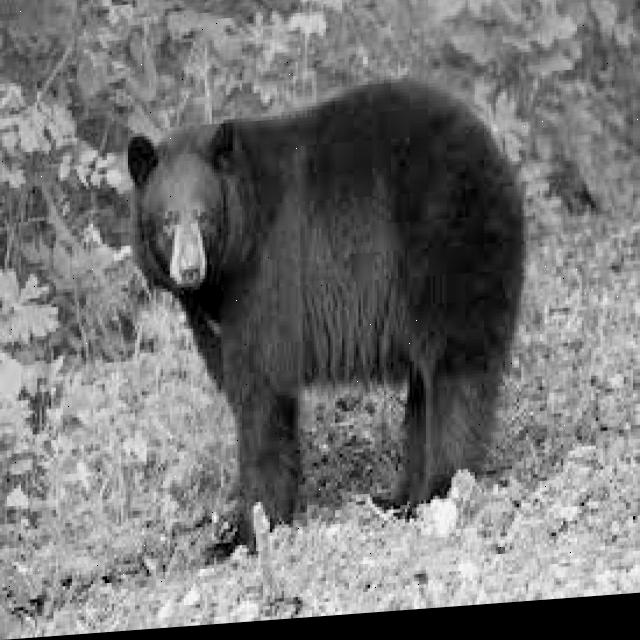Bear: (127, 64, 527, 567)
